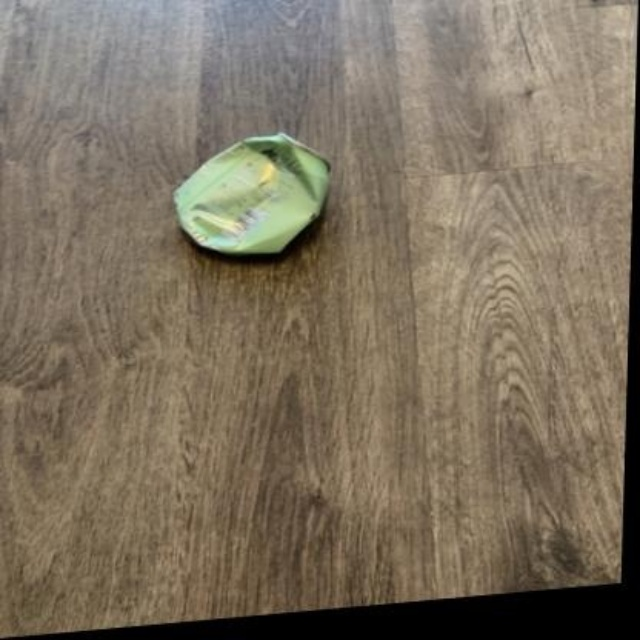trash: (174, 134, 328, 254)
